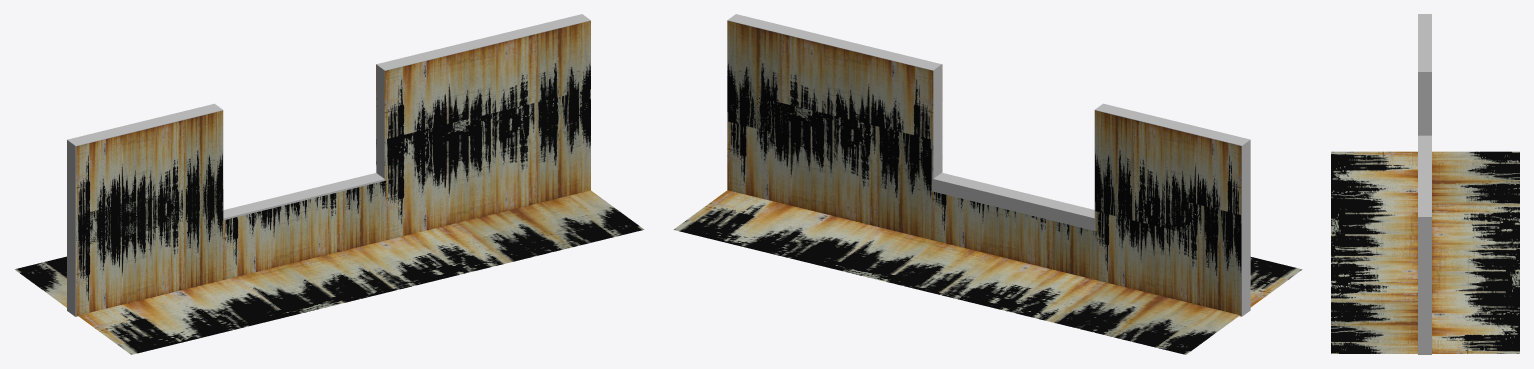
Rendered from TiledBrick.FBX.
3 views of the same model, side by side, from view 1: azimuth 30°, elevation 25°; view 2: azimuth 150°, elevation 25°; view 3: azimuth 270°, elevation 25° (orthographic). The views are drawn at different scales.
Visible parts, largest first — view 1: TiledBrick; view 2: TiledBrick; view 3: TiledBrick.
Part boxes in pixels (left/top/right/bottom): TiledBrick: left=15, top=14, right=644, bottom=354; TiledBrick: left=673, top=14, right=1302, bottom=354; TiledBrick: left=1331, top=14, right=1519, bottom=354.
Size of the model in its own units: 703 by 223 by 277.
